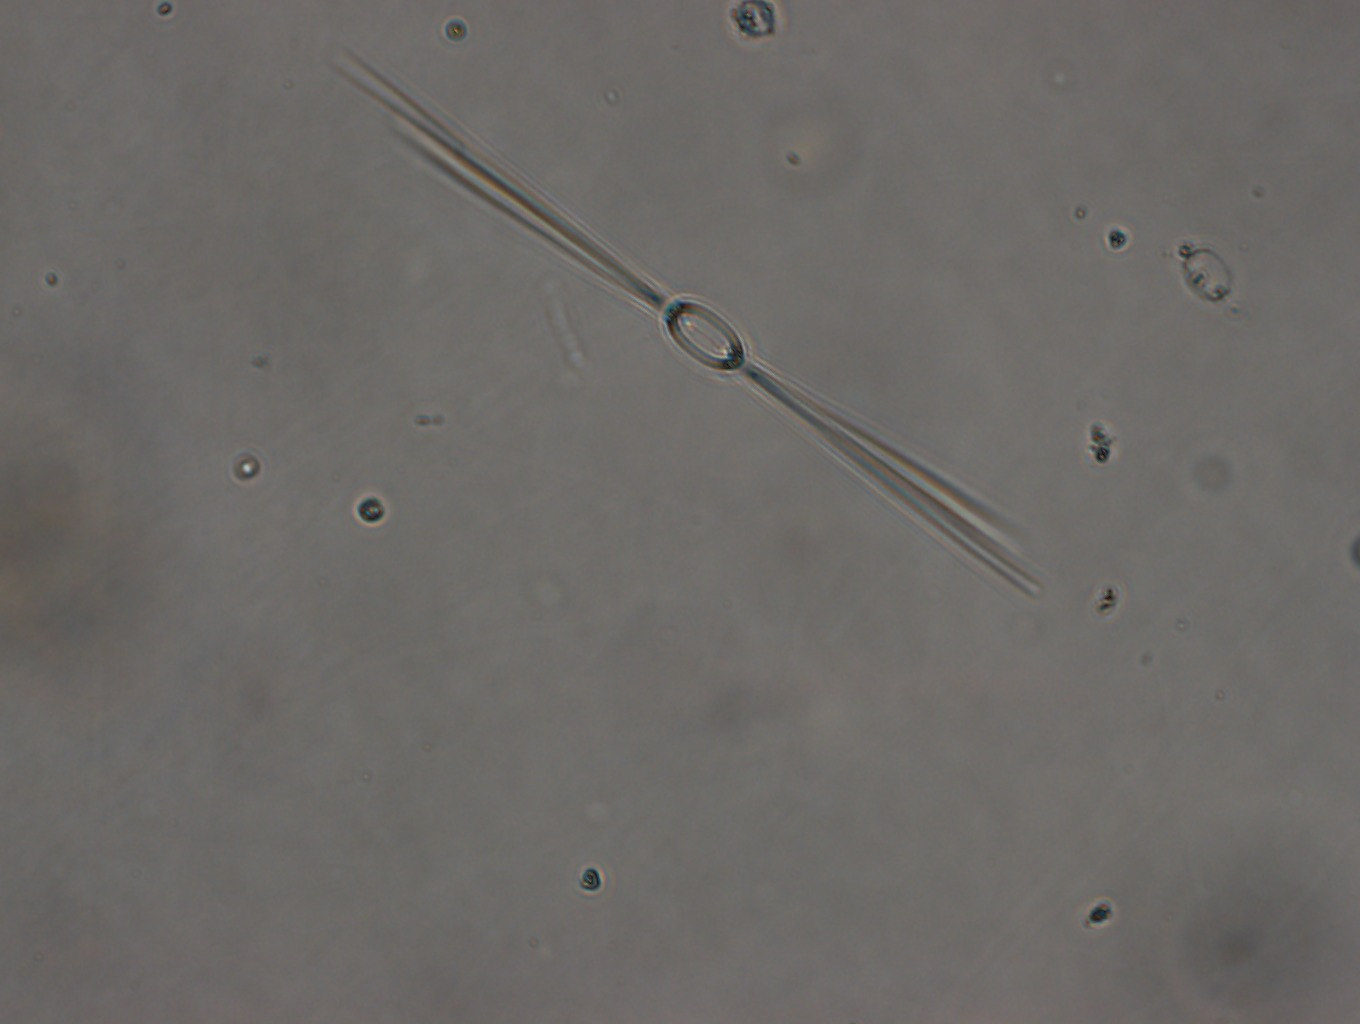chaetoceros: (330, 27, 1053, 610)
